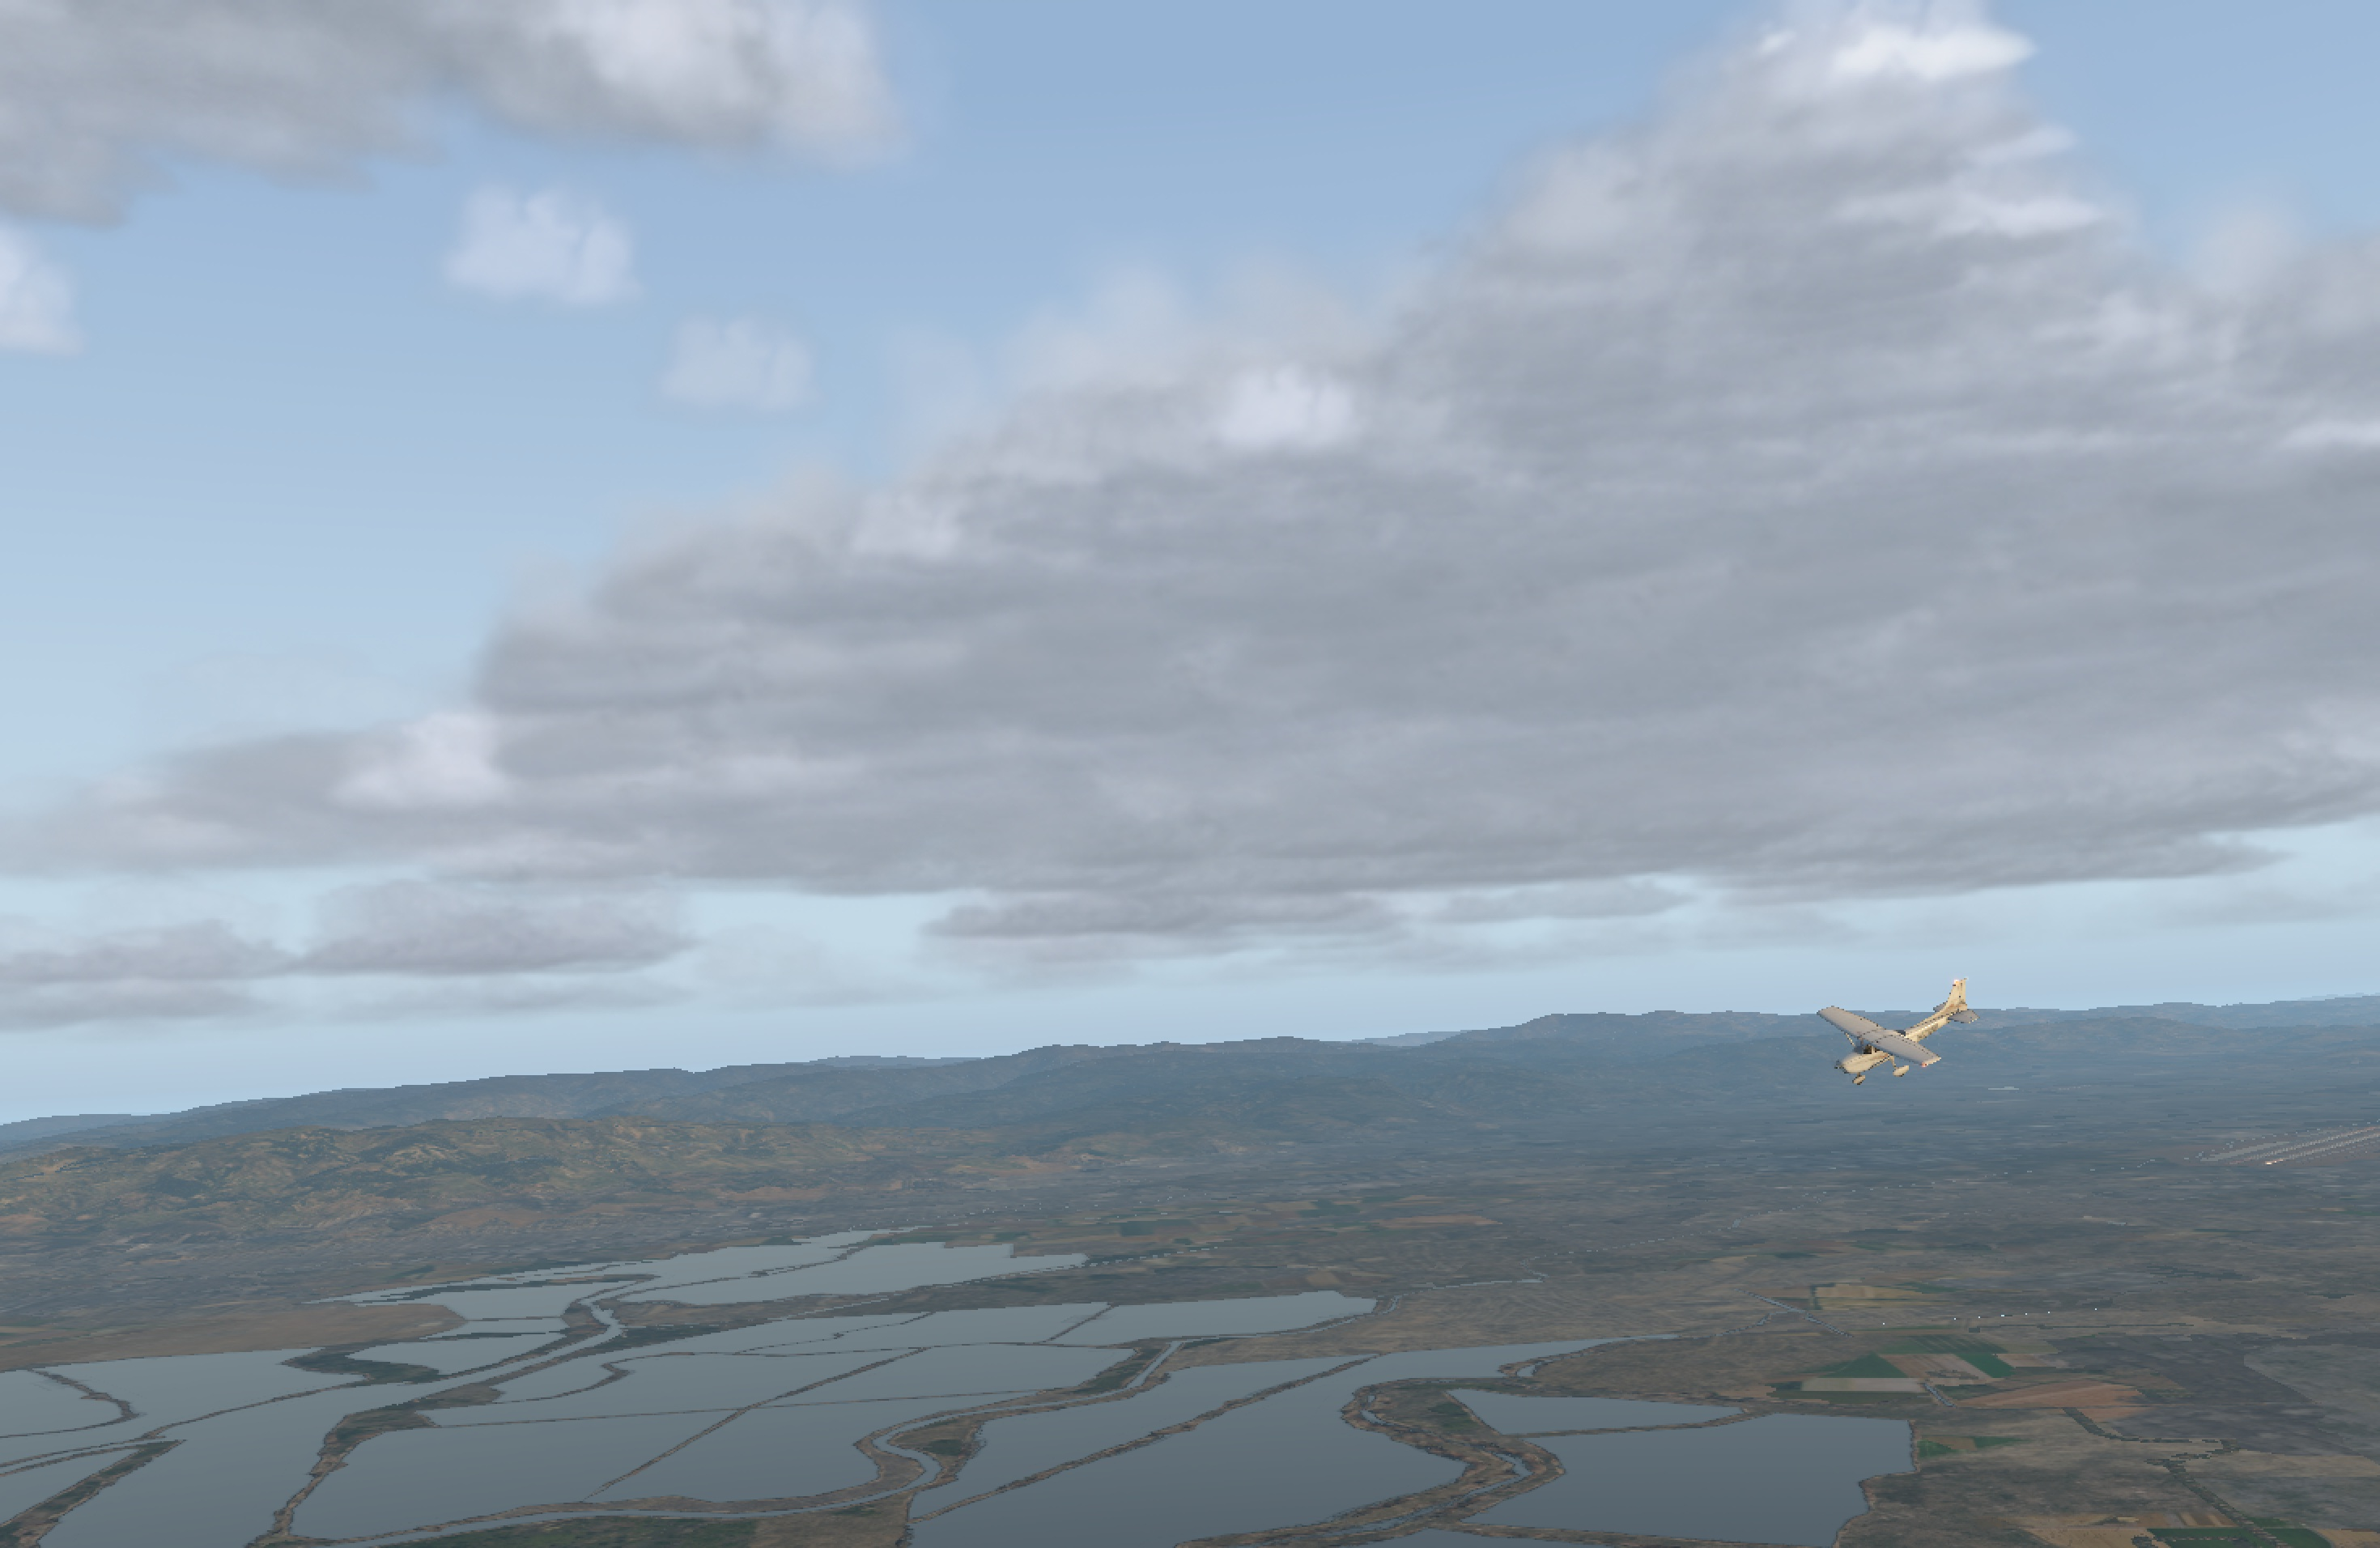aircraft: (1801, 1020, 1948, 1076)
